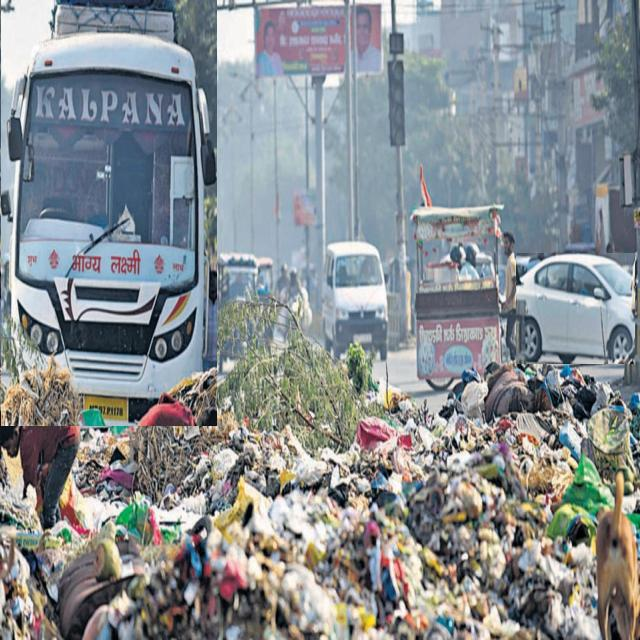bus: (1, 0, 216, 426)
car: (516, 253, 635, 364), (322, 242, 388, 358)
